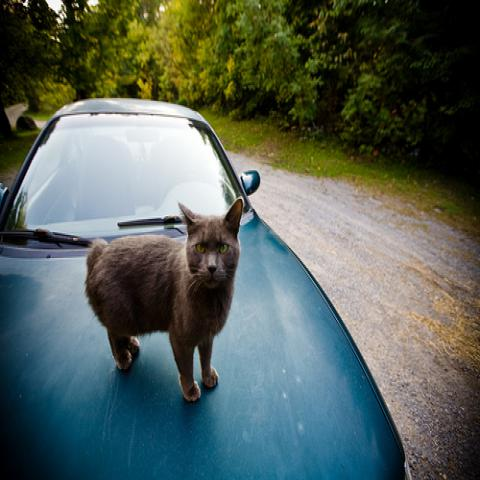car: (0, 95, 415, 479)
